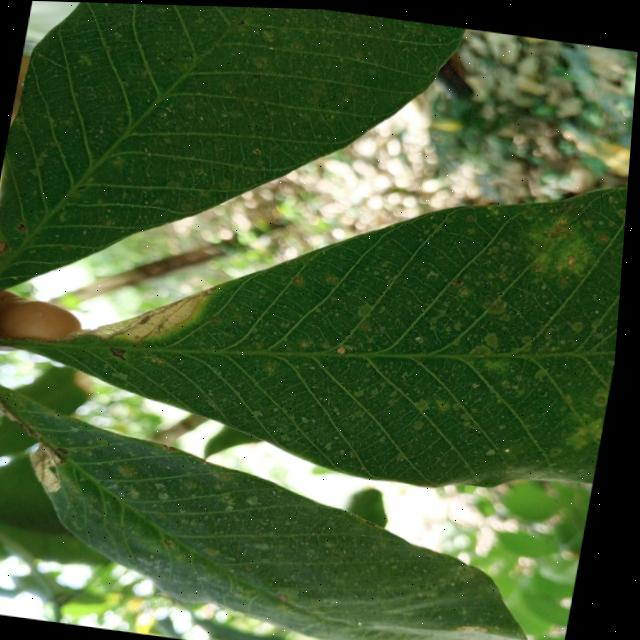Colletotrichum: (20, 221, 30, 231), (601, 390, 612, 399)
Leaf-Blight: (56, 262, 223, 362), (30, 439, 76, 493)
